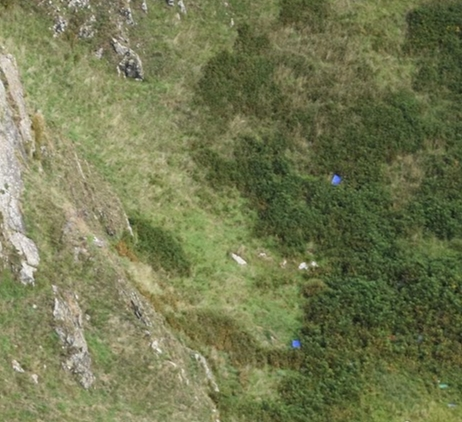white_in_green: (272, 321, 317, 365), (314, 159, 360, 201)
